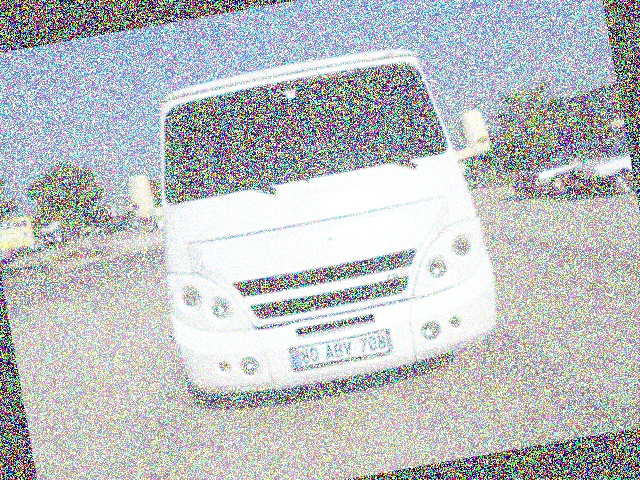plaka: (293, 333, 393, 364)
